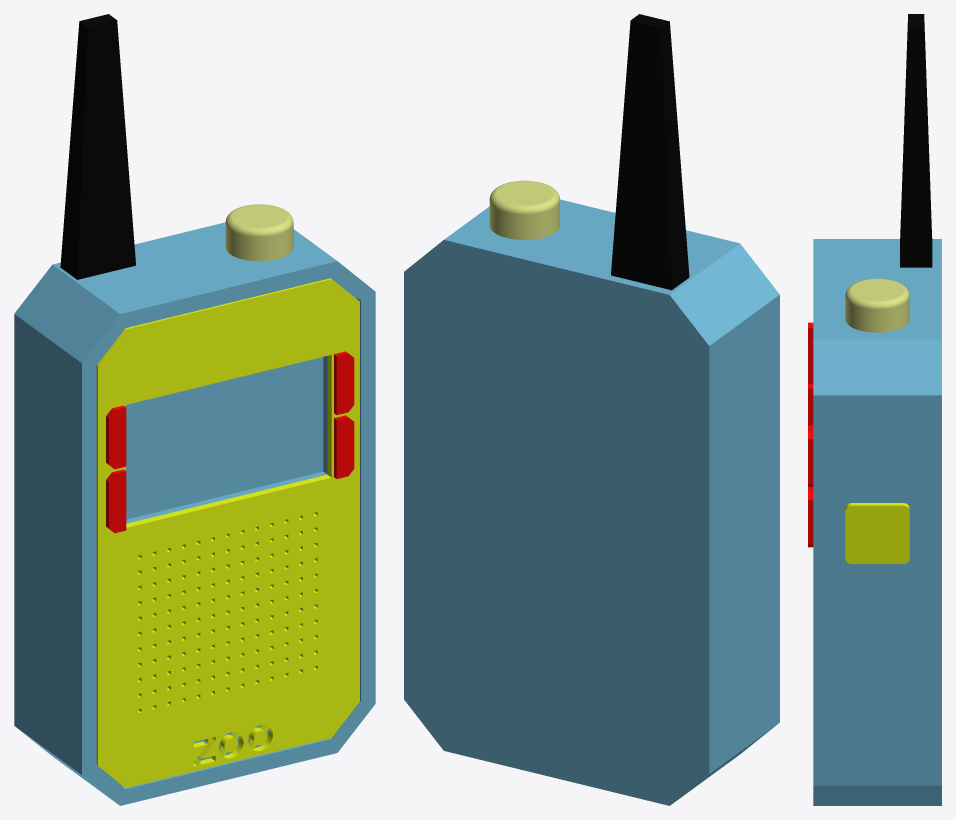
The model's file is walkie-talkie.glb.
3 renders of one model, left to right at view 1: azimuth 30°, elevation 25°; view 2: azimuth 150°, elevation 25°; view 3: azimuth 270°, elevation 25°, orthographic. The views are drawn at different scales.
Size of the model in its own units: 0.0648 by 0.1524 by 0.0264.
